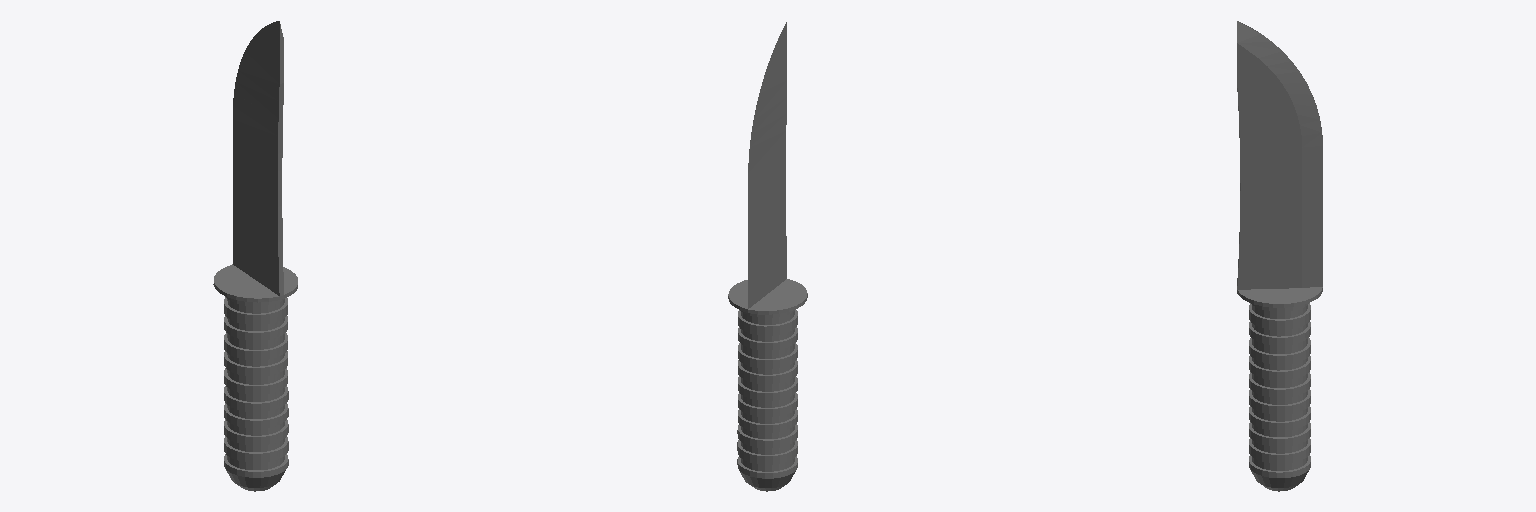
robot.urdf — object:
<?xml version="1.0"?>
<robot name="object">
  <link name="object">
    <visual>
      <origin xyz="0 0 0"/>
      <geometry>
        <mesh
          filename="../../mesh/oakink_virtual/knife_s146.stl" />
      </geometry>
      <material name="mat">
        <color rgba="0.5 0.5 0.5 1"/>
      </material>
    </visual>

    <collision>
      <origin xyz="0 0 0"/>
      <geometry>
        <mesh
          filename="../../mesh/oakink_virtual/knife_s146.stl" />
      </geometry>
    </collision>
  </link>
</robot>

--- Render facts (derived) ---
Views: 3 orthographic renders of the robot side by side, from view 1: azimuth 30°, elevation 25°; view 2: azimuth 150°, elevation 25°; view 3: azimuth 270°, elevation 25°.
Robot: object — 1 links, 0 joints (none); root link object; default pose: all joints at 0.
Links seen in each view (by area): view 1: object; view 2: object; view 3: object.
Link boxes in pixels (x1,y1,x2,y2): object: [213, 21, 297, 491]; object: [728, 22, 807, 491]; object: [1237, 21, 1322, 491].
Bounding box of the posed robot: 0.0315 × 0.0333 × 0.1982 m (x, y, z).
Meshes: 1 distinct files referenced, 1 mesh visuals loaded (1 binary STL).